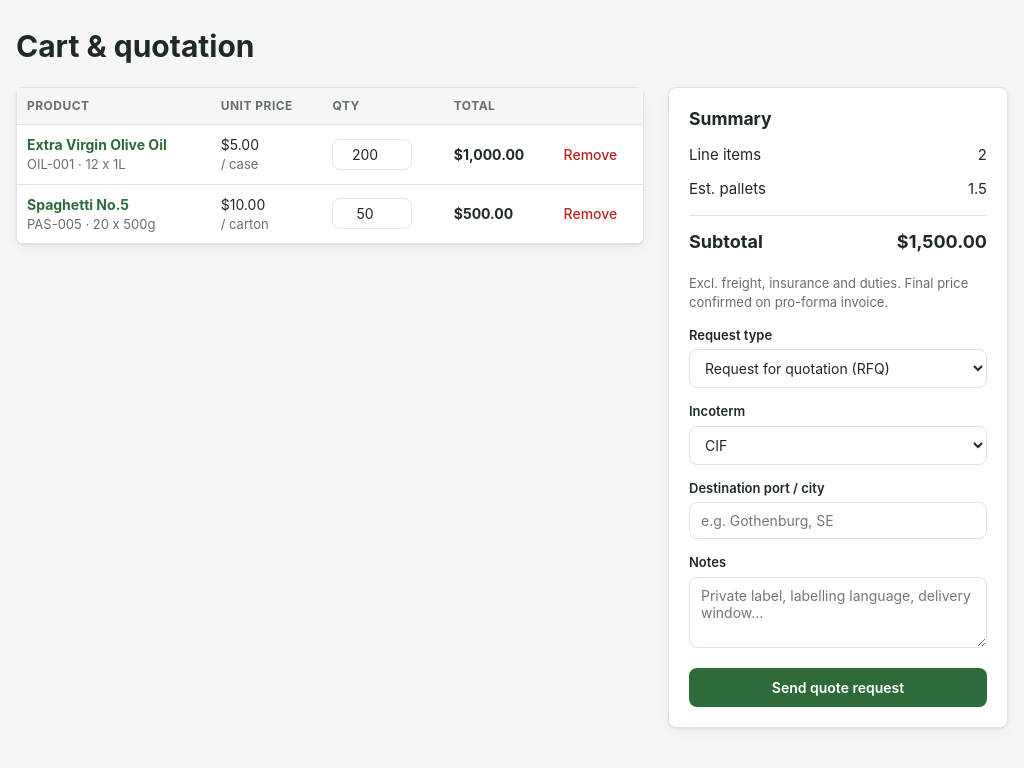
it: Cart page › request form › submits an RFQ, shows the confirmation and clears b2b_cart
This screenshot has width=1024, height=768.
Select "FOB" in the dropdown below "Incoterm" at (838, 445), box [689,426,987,465]
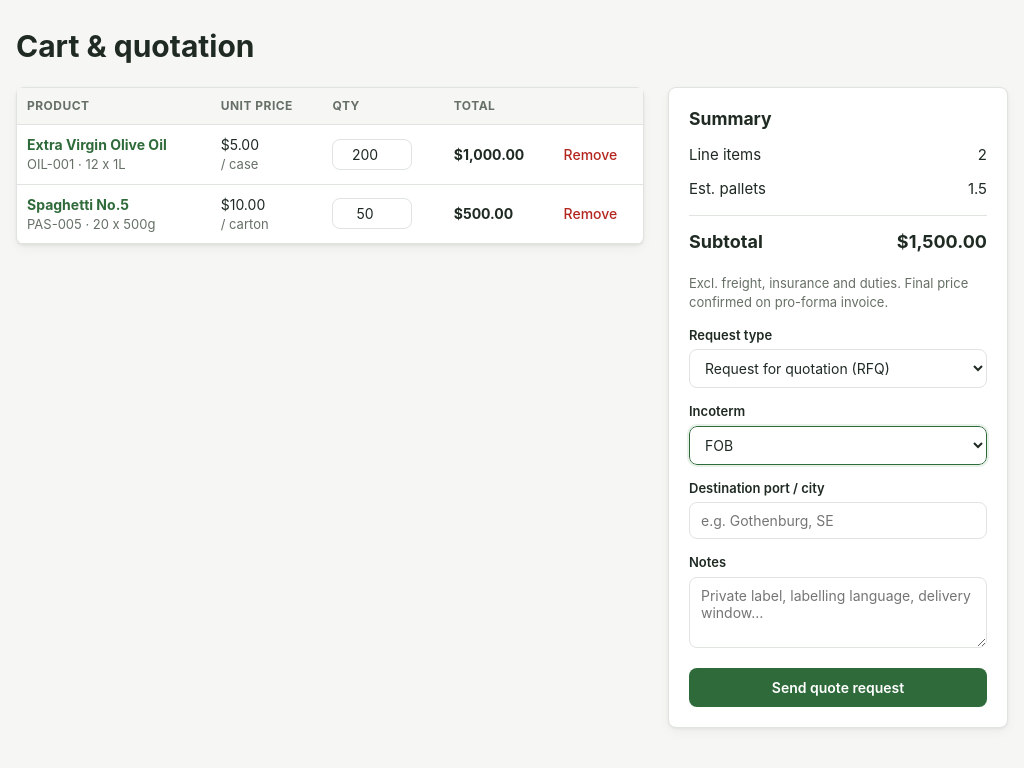
Type "Gothenburg, SE" into the field with placeholder "e.g. Gothenburg, SE".
click(838, 521); type("Gothenburg, SE")  # box [689,502,987,539]
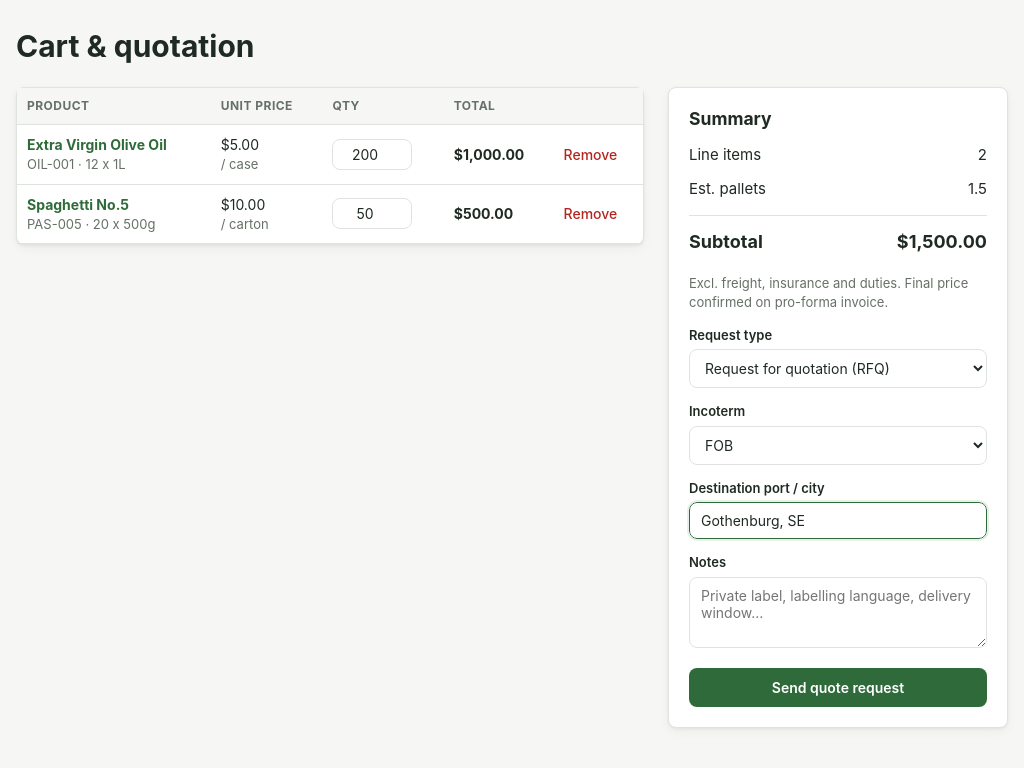
Type "Swedish labels" into the text box with placeholder "Private label, labelling language, delivery window…".
click(838, 612); type("Swedish labels")  # box [689,577,987,648]
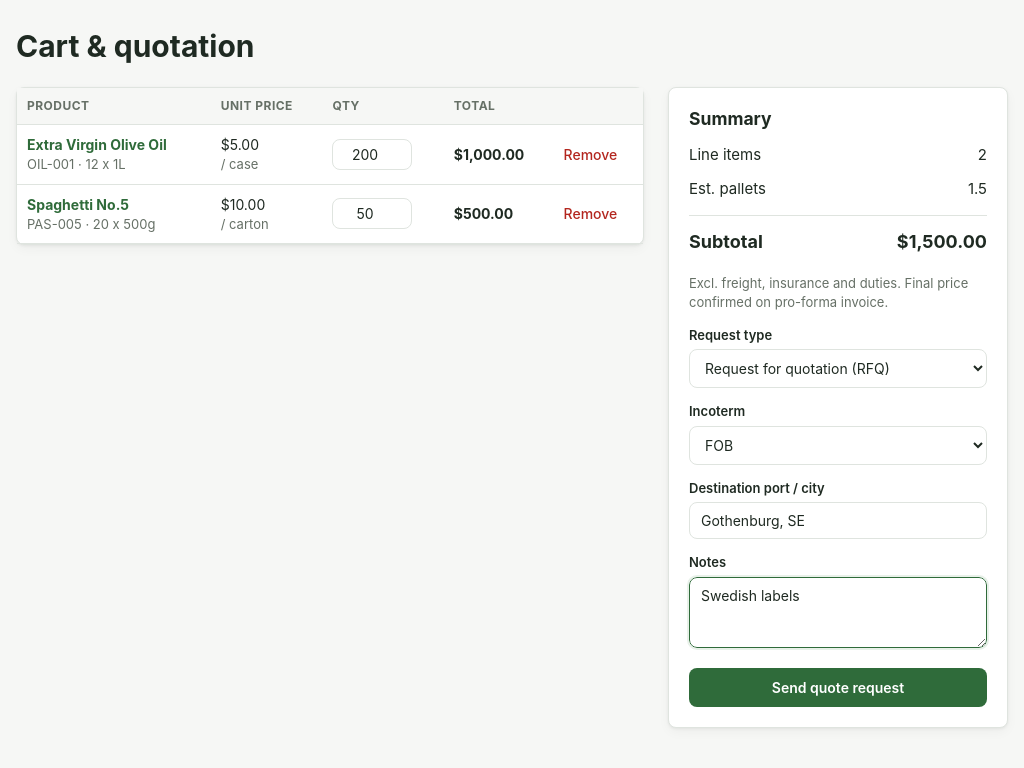
Click the button "Send quote request".
click(838, 688)  # box [689,668,987,707]
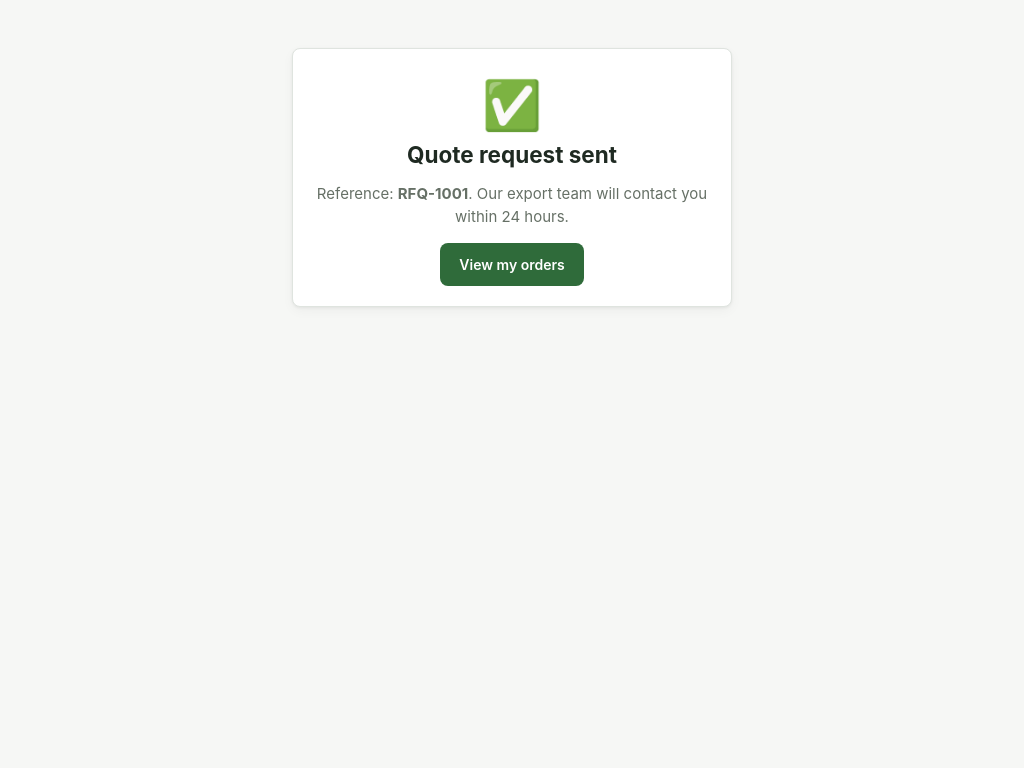
Now the heading "Quote request sent" is shown, box [407,141,617,168]
Now the text "RFQ-1001" is shown, box [398,184,468,203]
